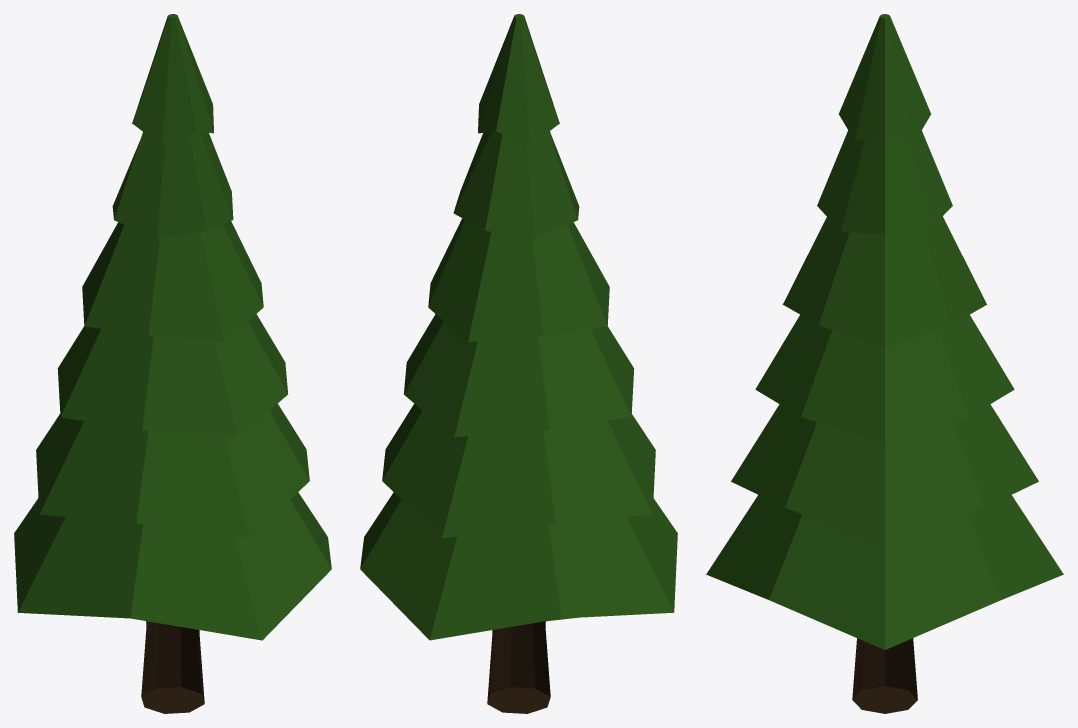
The model's file is tree.obj.
3 views of the same model, side by side, from view 1: azimuth 30°, elevation 25°; view 2: azimuth 150°, elevation 25°; view 3: azimuth 270°, elevation 25° (orthographic).
Parts seen in each view (by area): view 1: Cylinder.001, Cylinder.000_Cylinder.003; view 2: Cylinder.001, Cylinder.000_Cylinder.003; view 3: Cylinder.001, Cylinder.000_Cylinder.003.
Part boxes in pixels (x1,y1,x2,y2): Cylinder.001: (14,14,331,640); Cylinder.000_Cylinder.003: (141,621,204,713); Cylinder.001: (360,14,677,640); Cylinder.000_Cylinder.003: (487,621,550,713); Cylinder.001: (706,14,1063,649); Cylinder.000_Cylinder.003: (852,638,917,713).
Size of the model in its own units: 2.72 by 5.74 by 2.72.
